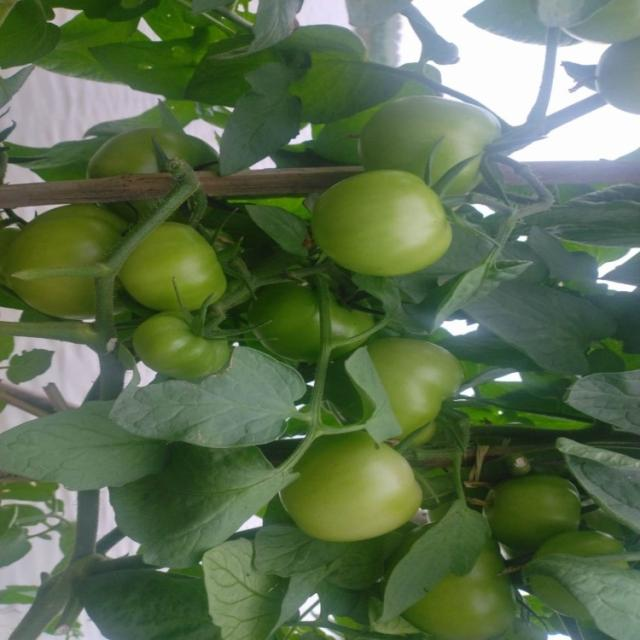tomato: (348, 70, 520, 195), (319, 162, 462, 293), (286, 423, 422, 550), (1, 186, 114, 332), (354, 317, 464, 457), (116, 213, 237, 318), (233, 287, 362, 362), (133, 304, 237, 396), (90, 116, 234, 176), (484, 474, 575, 528)
